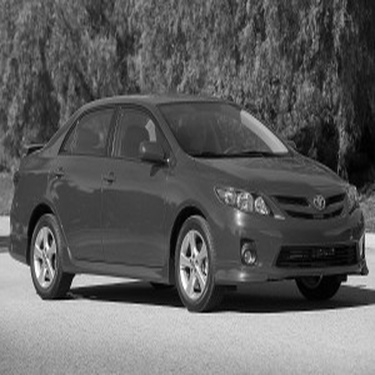car: (1, 82, 370, 297)
